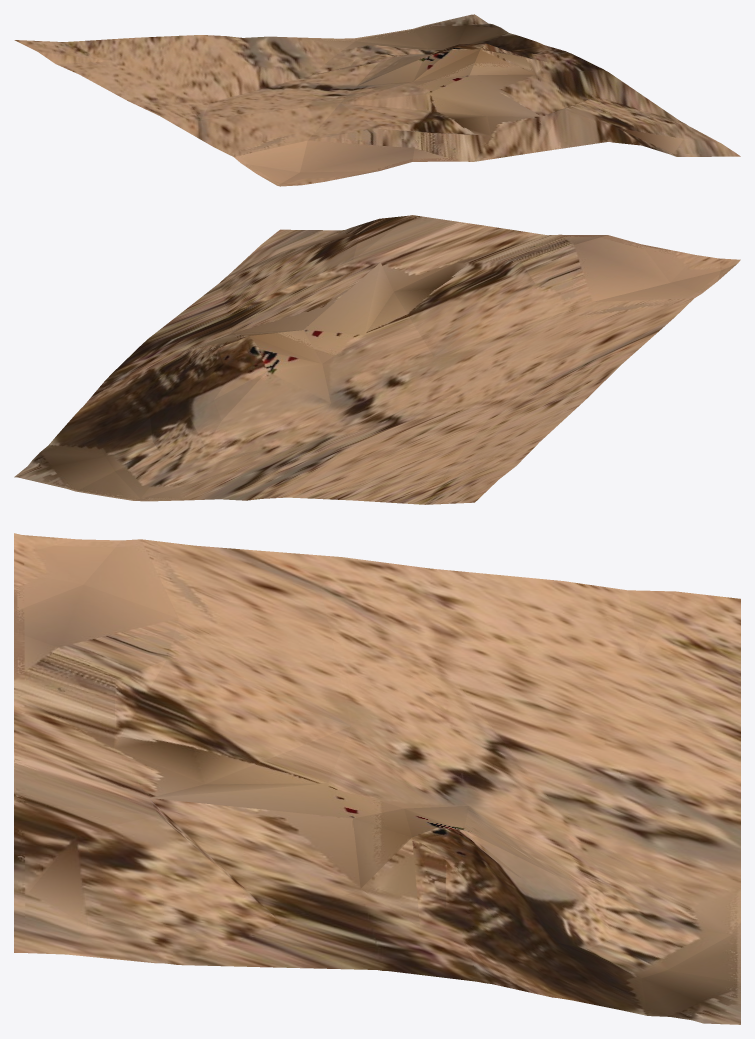
3 renders of one model, top to bottom at view 1: azimuth 30°, elevation 25°; view 2: azimuth 150°, elevation 25°; view 3: azimuth 270°, elevation 25°, orthographic. The views are drawn at different scales.
Bounding box in the file's own units: 2.09 × 0.5852 × 2.09.
3 materials, 3 textured.
